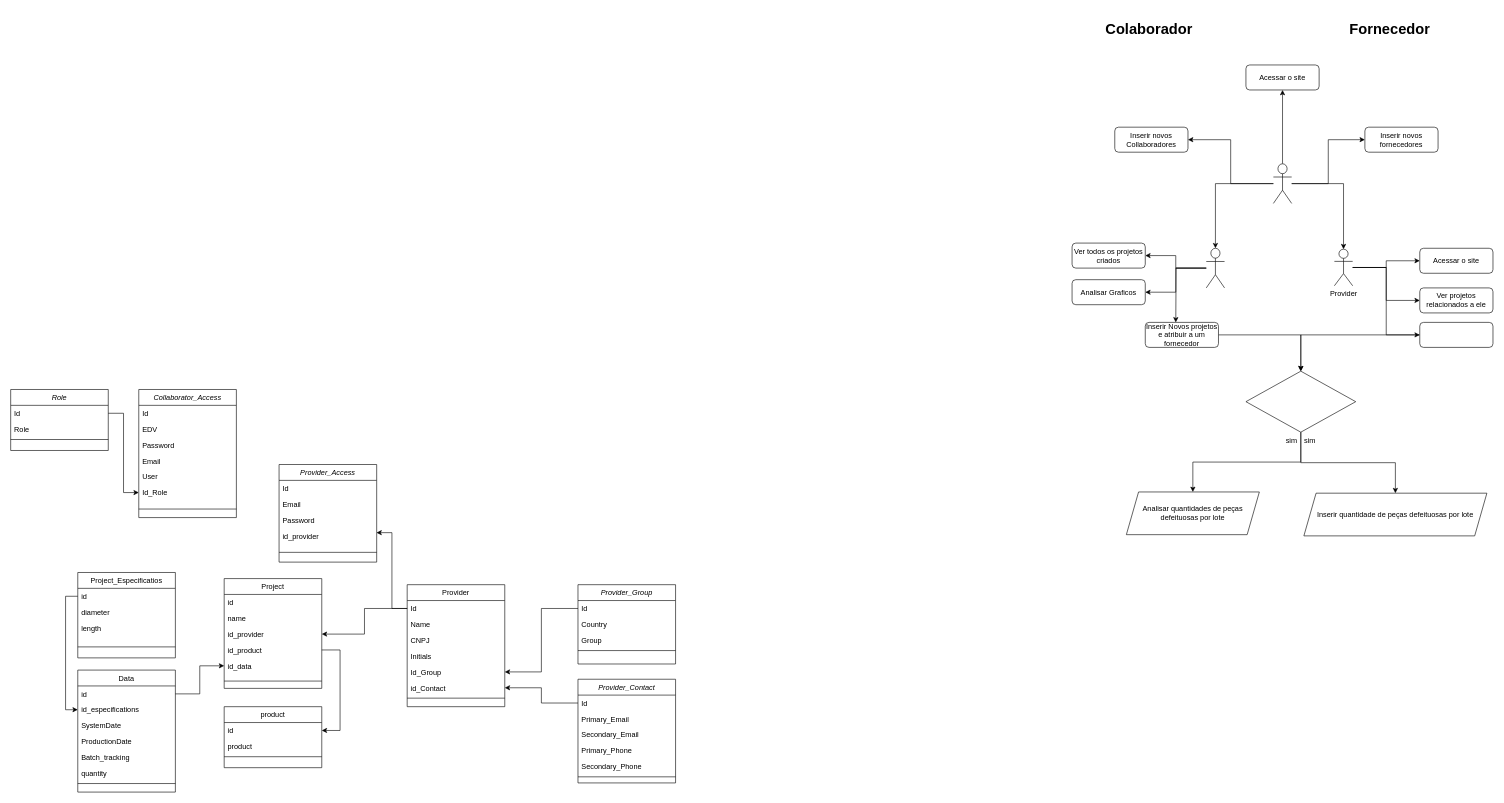
Some shapes in this 1504 by 803 pixel diagram are drawn without their labels. Each missing label, with the centre of its shape:
Collaborator BOSCH: (x=1215, y=268)
Collaborator BOSCH ADMIN: (x=1282, y=183)
Houve Erros nas peças?: (x=1300, y=401)
Inserir Dados do Projeto: (x=1456, y=334)
